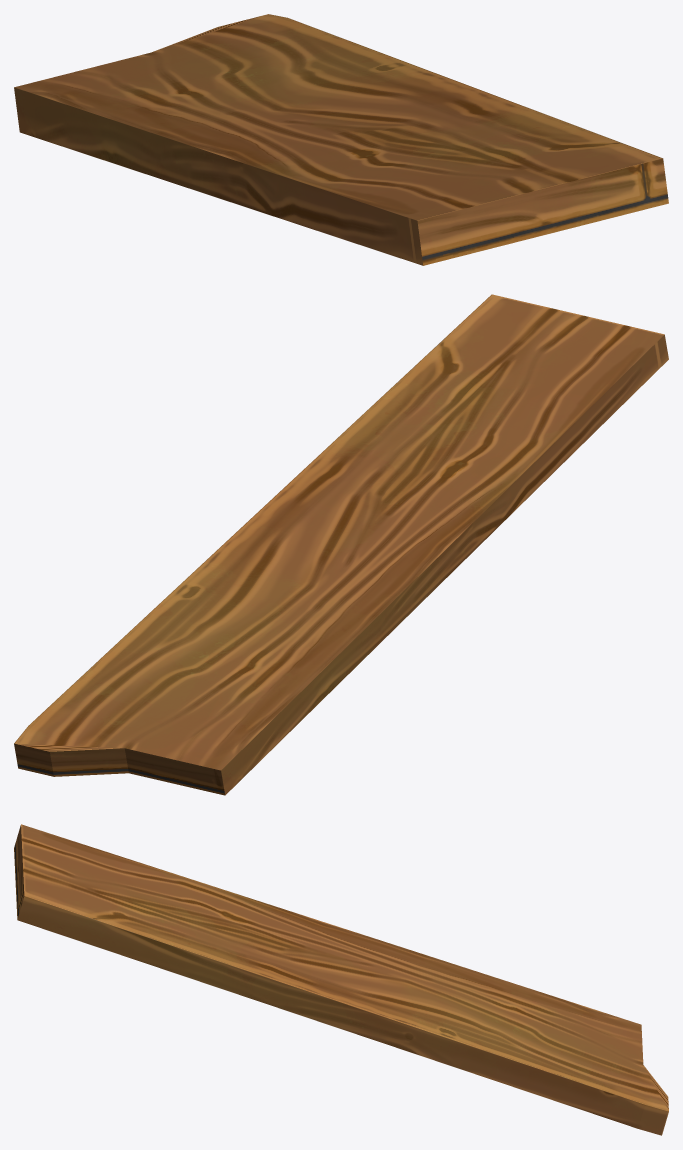
3 renders of one model, top to bottom at view 1: azimuth 30°, elevation 25°; view 2: azimuth 150°, elevation 25°; view 3: azimuth 270°, elevation 25°, orthographic. The views are drawn at different scales.
Visible parts, largest first — view 1: Cube.550; view 2: Cube.550; view 3: Cube.550.
Boxes of the visible parts, <box> form: Cube.550: <box>14,14,668,265</box>; Cube.550: <box>14,294,668,795</box>; Cube.550: <box>14,824,668,1135</box>.
Bounding box in the file's own units: 84.06 × 66.88 × 202.
Materials: 1 (1 with a texture image).
